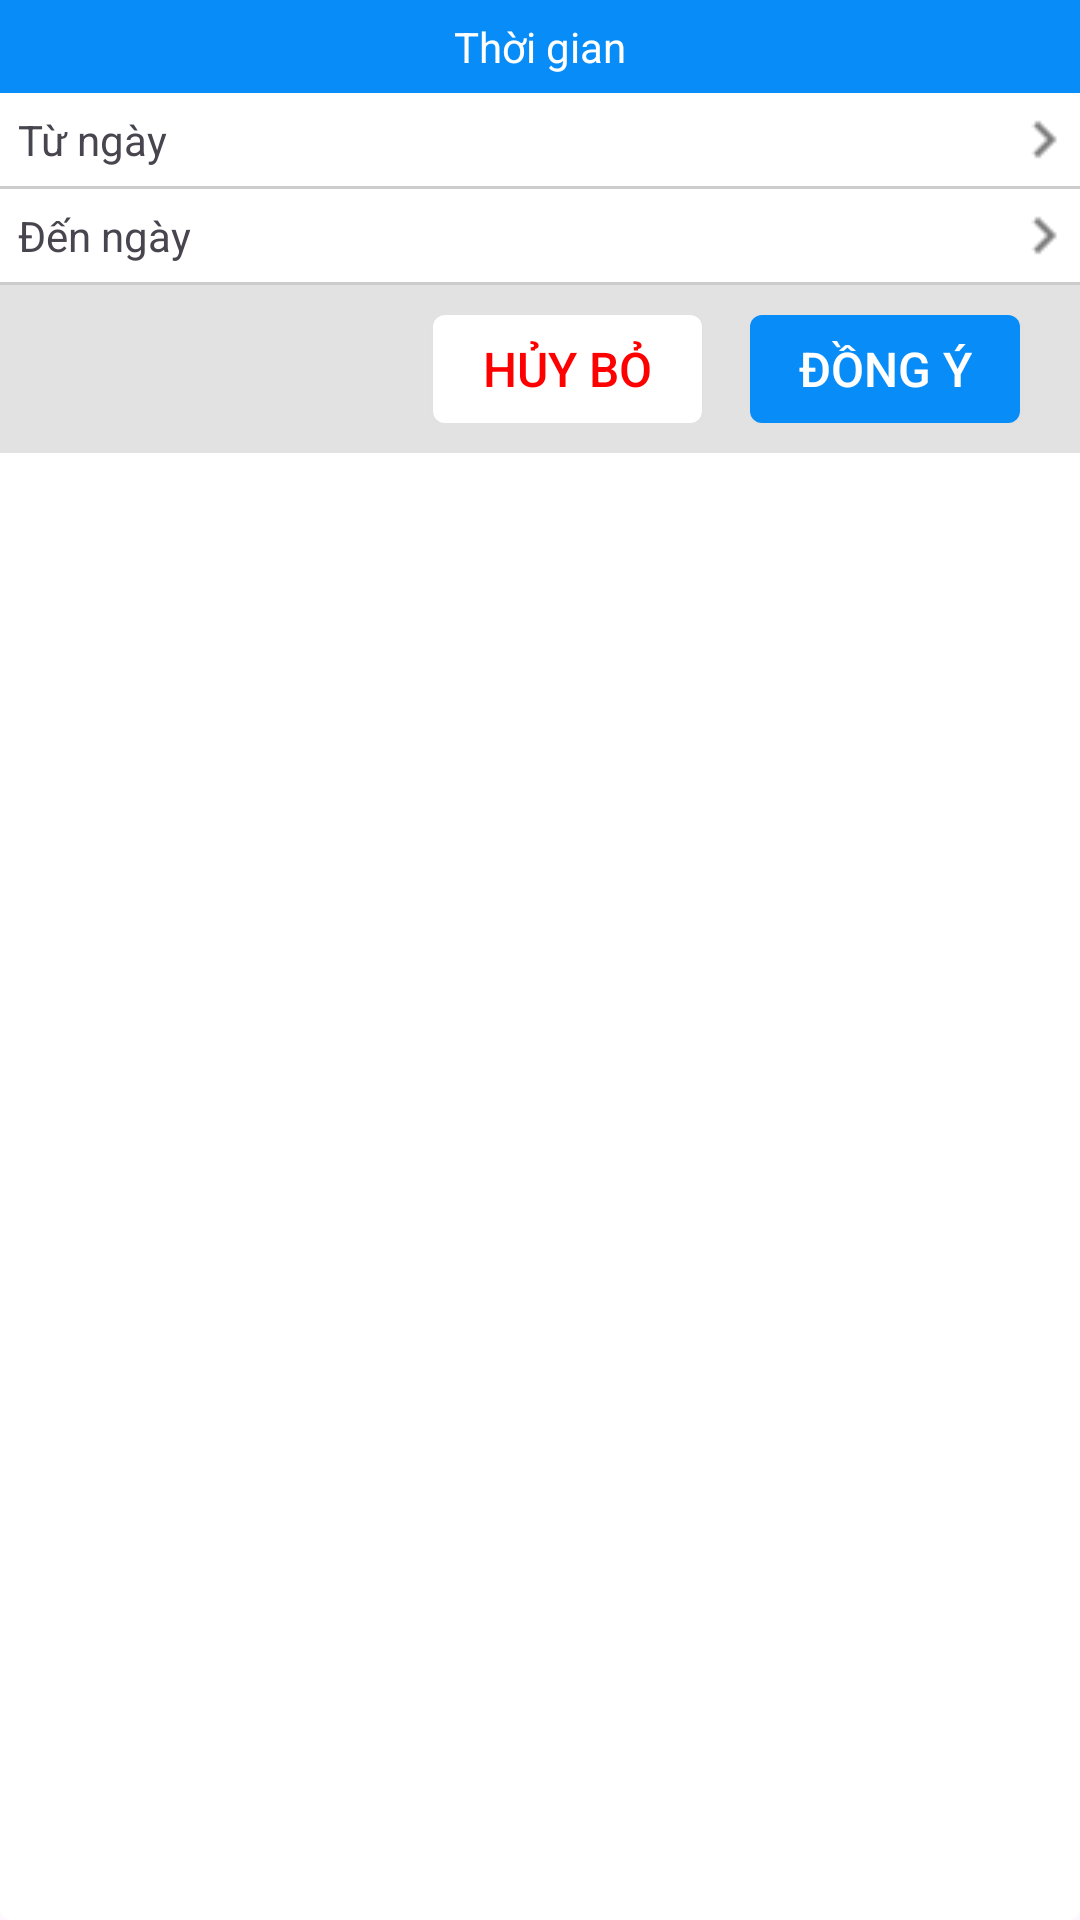

Icons on this 1080px x 1920px Android screen, each with its box as box(x1, y1, x2, y2):
arrow right: box(1033, 121, 1057, 158), box(1033, 217, 1057, 254)
